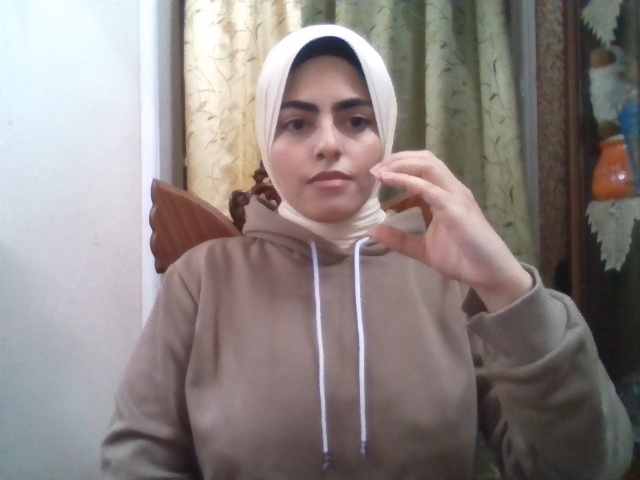C: (367, 151, 507, 277)
